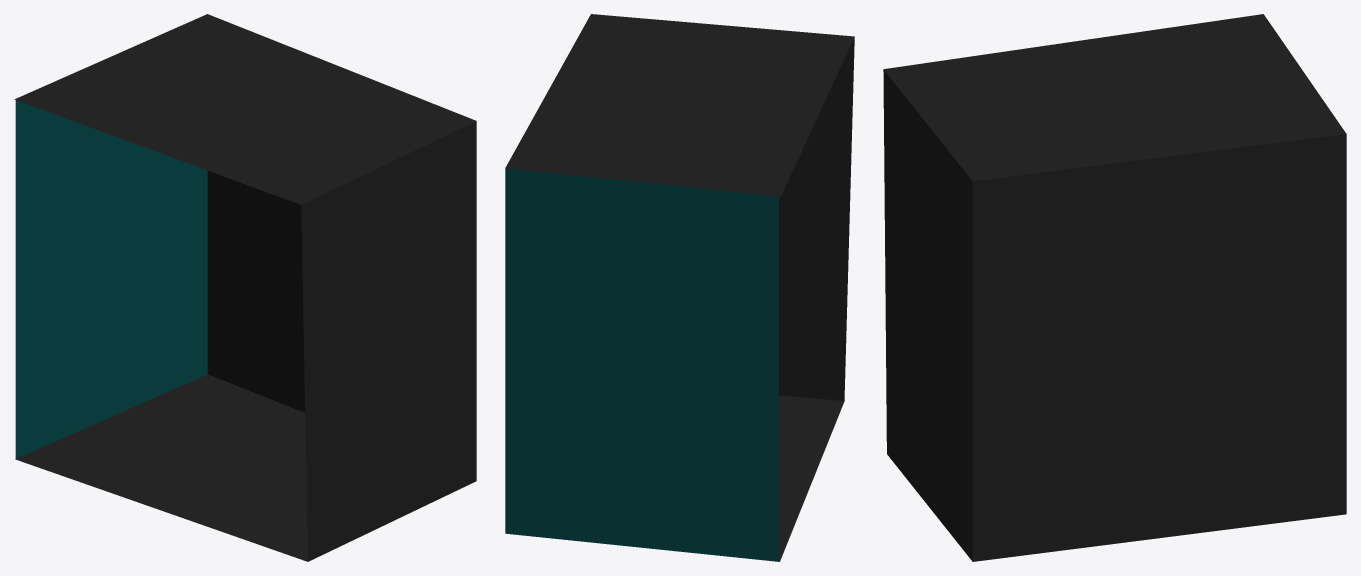
File: B_Werth_58.FBX
3 renders of one model, left to right at view 1: azimuth 30°, elevation 25°; view 2: azimuth 150°, elevation 25°; view 3: azimuth 270°, elevation 25°, orthographic. The views are drawn at different scales.
Visible parts, largest first — view 1: B_Werth_58, B_Werth_58_front; view 2: B_Werth_58_front, B_Werth_58; view 3: B_Werth_58.
Boxes of the visible parts, x1,y1,x2,y2 form: B_Werth_58: (14, 14, 476, 561); B_Werth_58_front: (15, 100, 207, 458); B_Werth_58_front: (505, 168, 778, 561); B_Werth_58: (505, 14, 854, 561); B_Werth_58: (883, 14, 1346, 561).
Bounding box in the file's own units: 1551 × 1644 × 1813.
